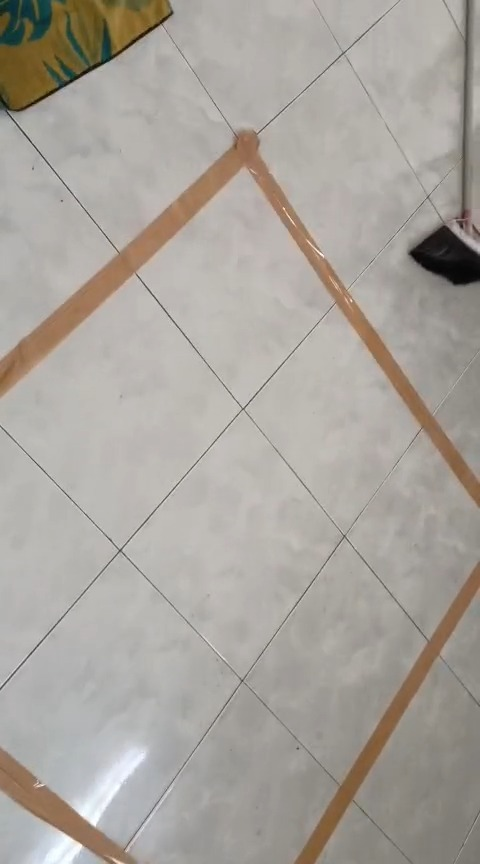floor marking: (0, 131, 479, 505), (294, 563, 479, 863), (0, 748, 136, 863)
